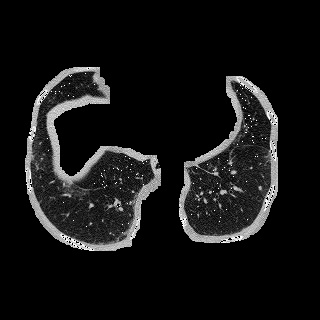PN: (258, 186, 262, 190)
